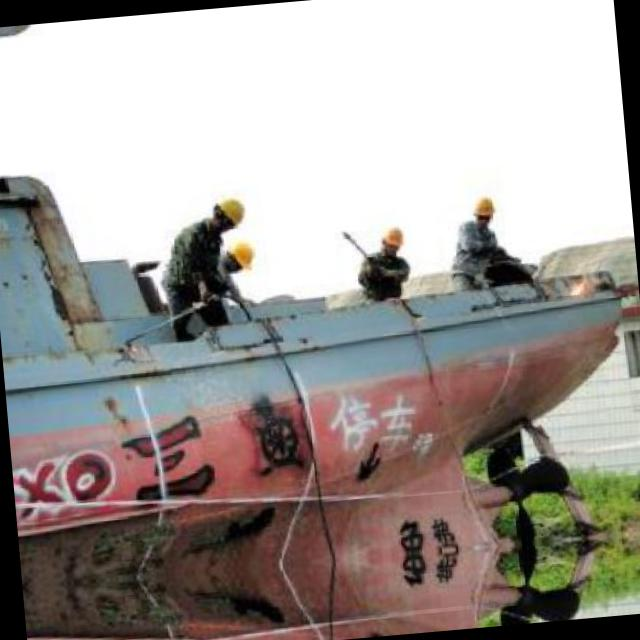helmet: (214, 232, 260, 277), (208, 190, 248, 233), (464, 193, 496, 230), (376, 224, 402, 254)
